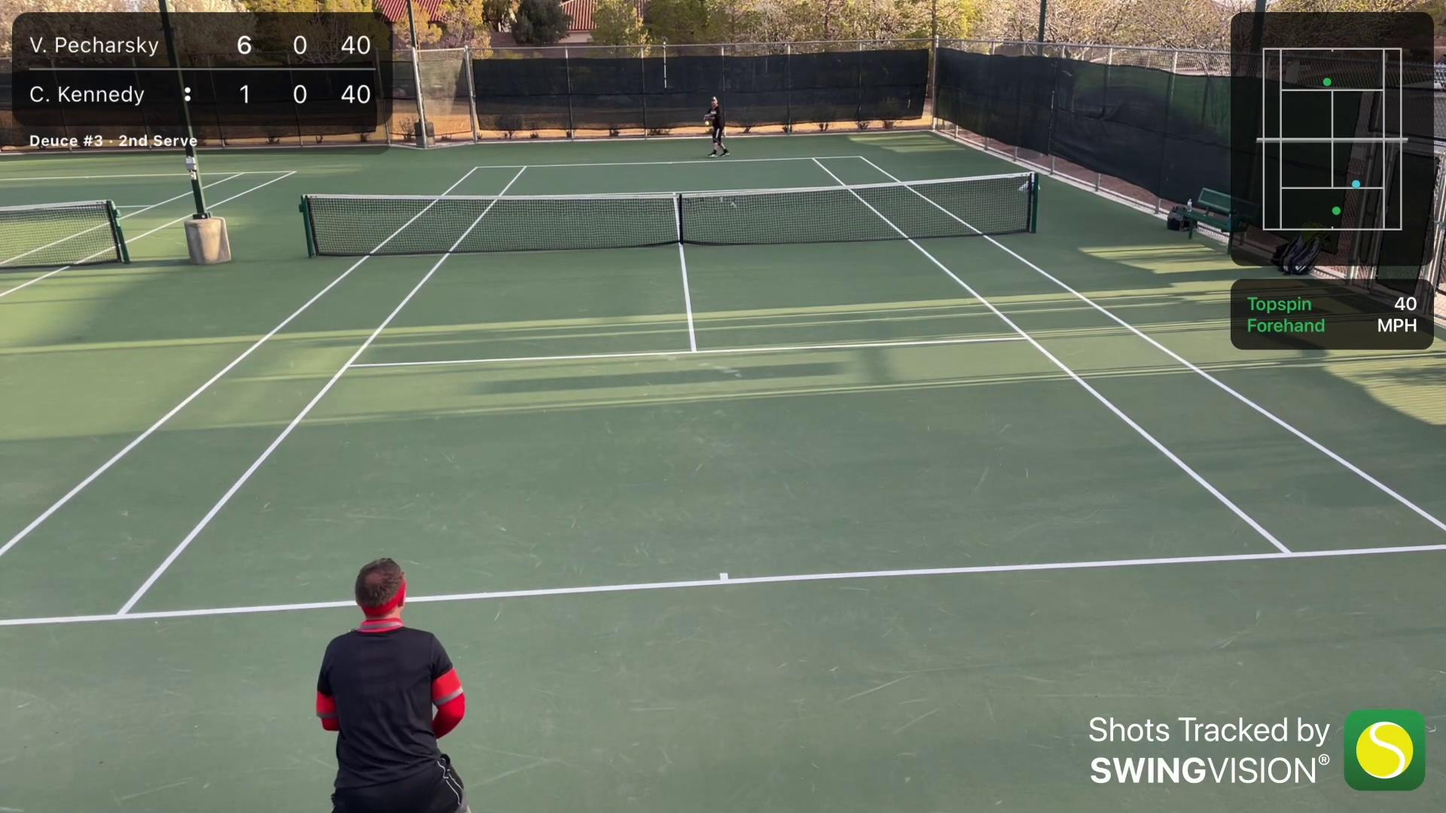ball: (704, 121, 711, 126)
